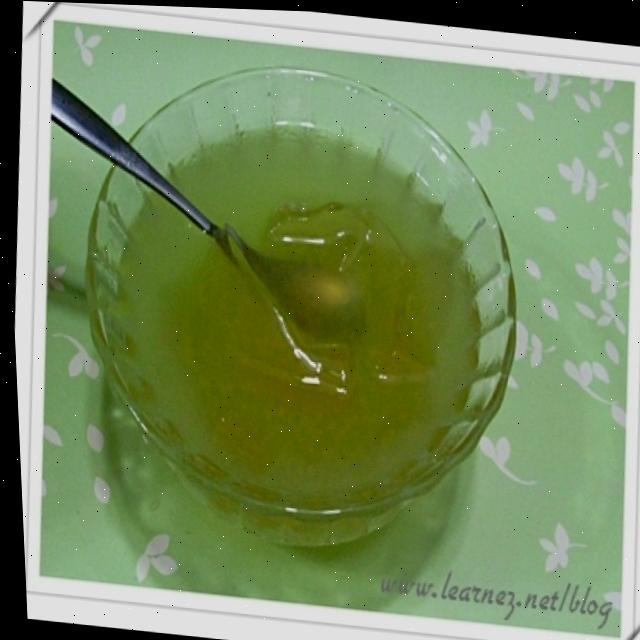蛋糕甜品: (47, 38, 607, 626)
